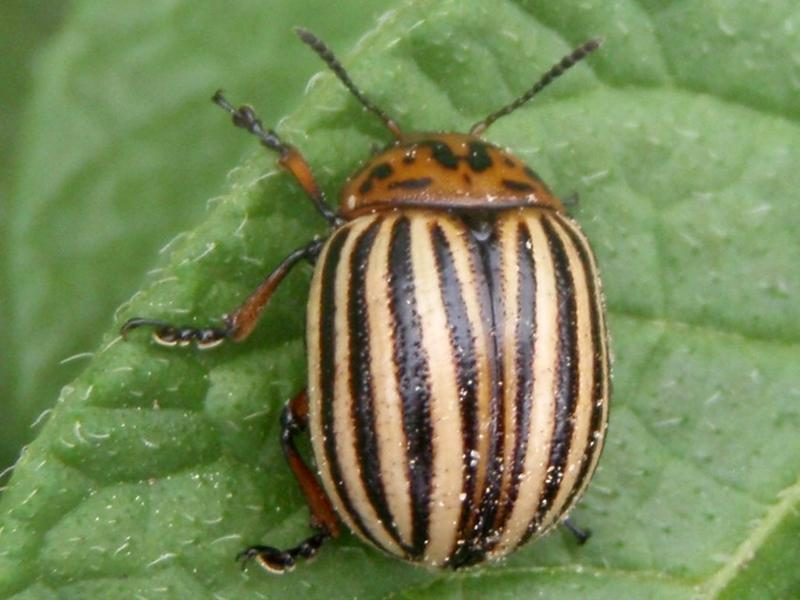hrosc: (247, 99, 637, 584)
